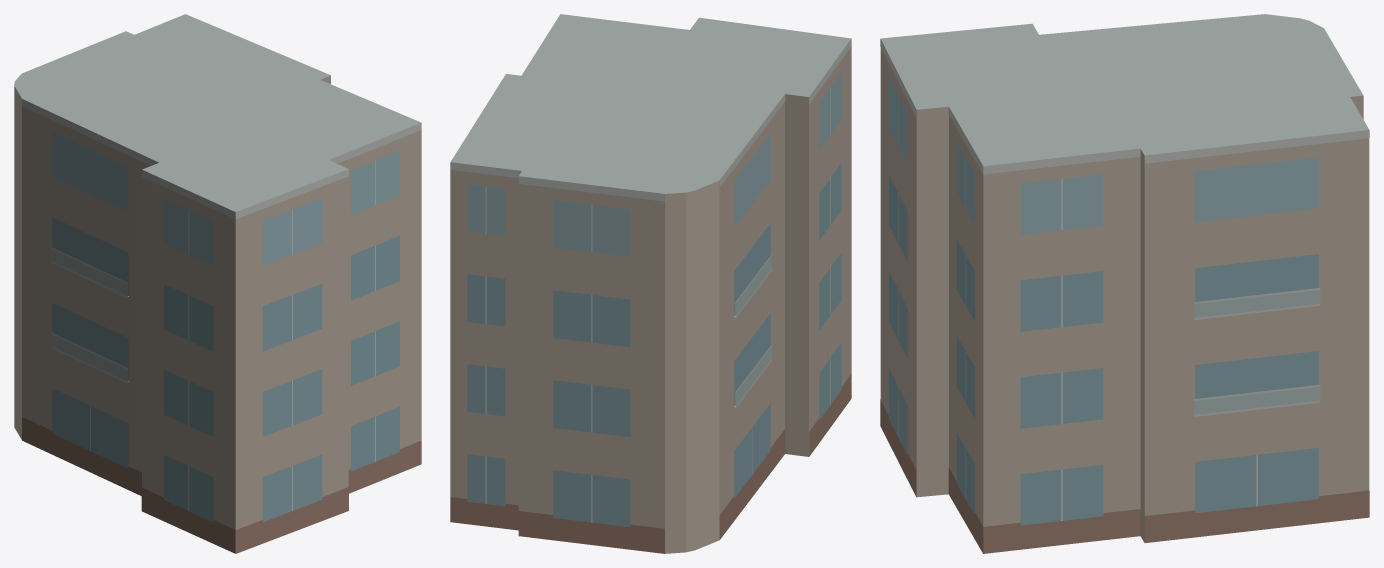
Rendered from survey-upis-32717354.glb.
3 views of the same model, side by side, from view 1: azimuth 30°, elevation 25°; view 2: azimuth 150°, elevation 25°; view 3: azimuth 270°, elevation 25° (orthographic). The views are drawn at different scales.
Visible parts, largest first — view 1: survey-upis-32717354.tmp; view 2: survey-upis-32717354.tmp; view 3: survey-upis-32717354.tmp.
Part boxes in pixels (x1,y1,x2,y2): survey-upis-32717354.tmp: (14, 14, 421, 553); survey-upis-32717354.tmp: (450, 14, 851, 553); survey-upis-32717354.tmp: (880, 14, 1369, 553).
Size of the model in its own units: 9.7 by 11.5 by 13.16.
